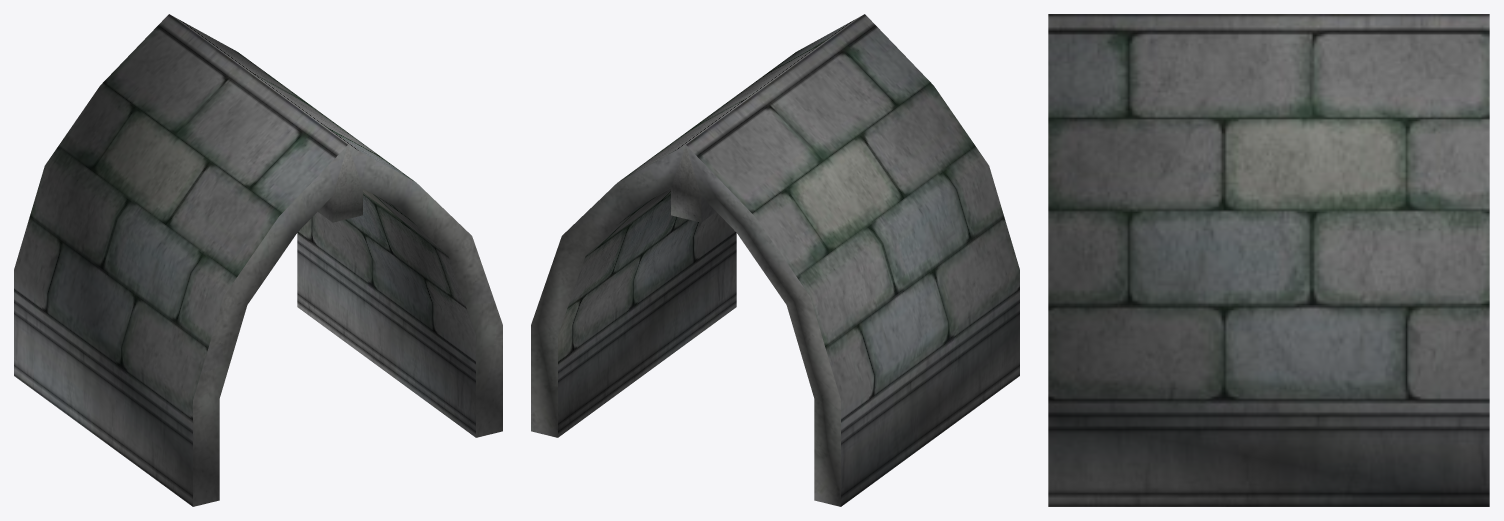
The model's file is barrel_ceiling_small_01.glb.
3 renders of one model, left to right at view 1: azimuth 30°, elevation 25°; view 2: azimuth 150°, elevation 25°; view 3: azimuth 270°, elevation 25°, orthographic. The views are drawn at different scales.
Visible parts, largest first — view 1: barrel_ceiling_small_01; view 2: barrel_ceiling_small_01; view 3: barrel_ceiling_small_01.
Boxes of the visible parts, x1,y1,x2,y2 form: barrel_ceiling_small_01: (14,14,502,506); barrel_ceiling_small_01: (531,14,1019,506); barrel_ceiling_small_01: (1048,14,1489,506).
Bounding box in the file's own units: 2 × 2 × 2.
1 material, 1 textured.
